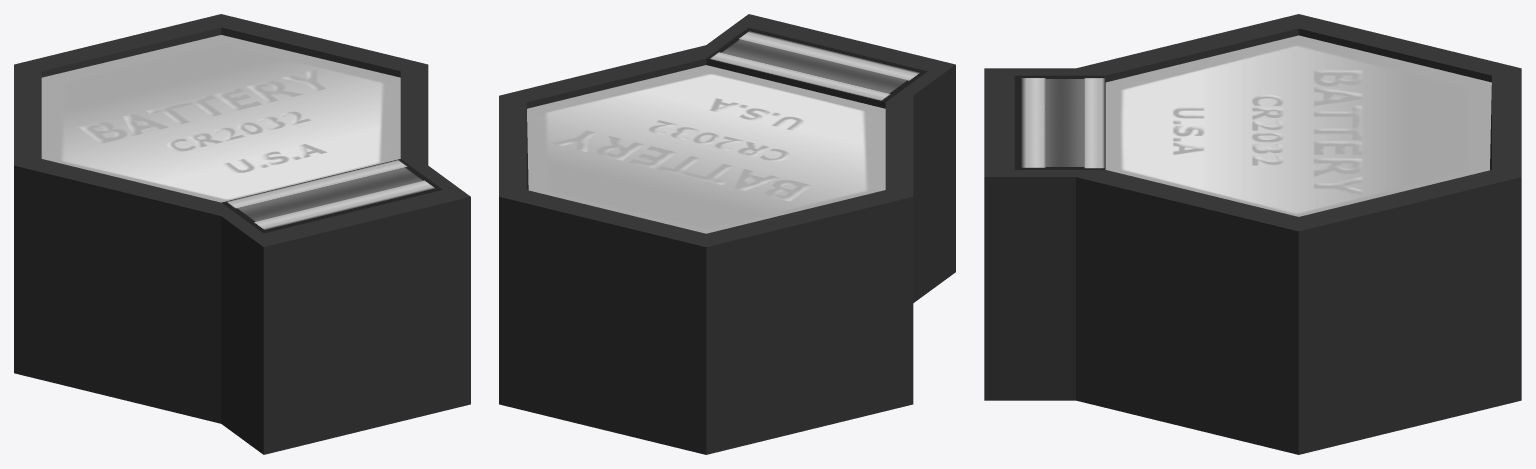
Rendered from BackupBatteryCells.fbx.
3 views of the same model, side by side, from view 1: azimuth 30°, elevation 25°; view 2: azimuth 150°, elevation 25°; view 3: azimuth 270°, elevation 25° (orthographic). The views are drawn at different scales.
Parts seen in each view (by area): view 1: BackupBatteryCells; view 2: BackupBatteryCells; view 3: BackupBatteryCells.
Part boxes in pixels (x1,y1,x2,y2): BackupBatteryCells: (14,14,470,454); BackupBatteryCells: (499,14,955,454); BackupBatteryCells: (984,14,1521,454).
Bounding box in the file's own units: 2 × 0.9586 × 2.09.
